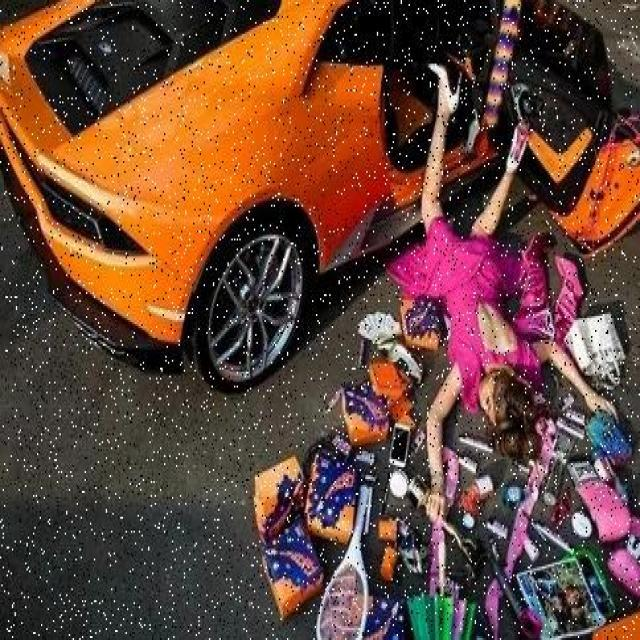fall: (420, 86, 584, 413)
